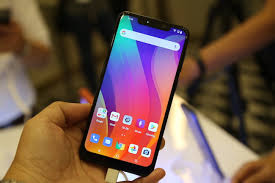vsmart: (78, 11, 189, 182)
